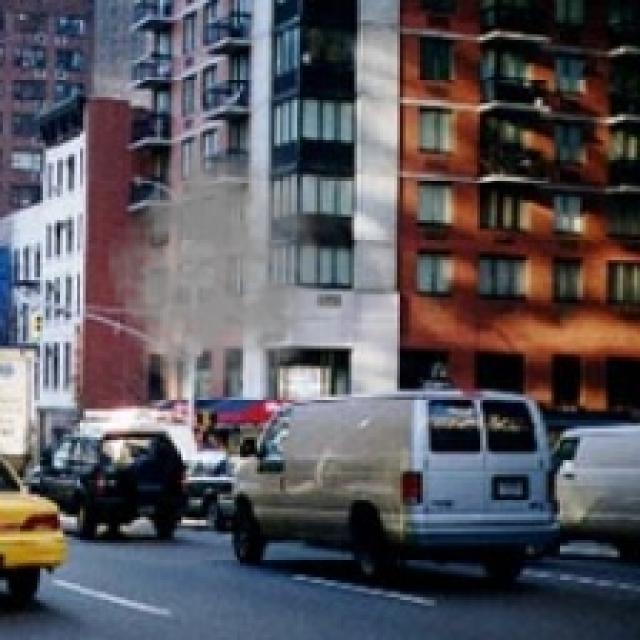smoke: (106, 126, 351, 400)
